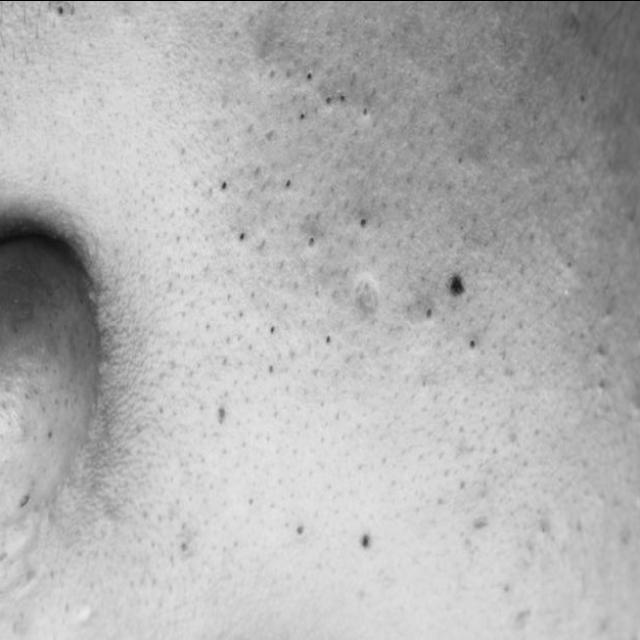blackhead: (176, 29, 406, 363)
